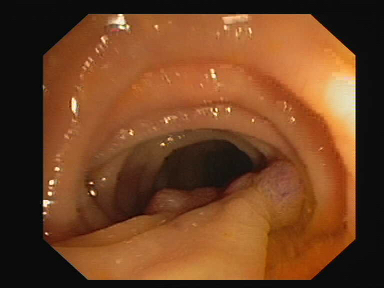polyp: (263, 161, 308, 222), (149, 185, 219, 214), (225, 172, 259, 191)
